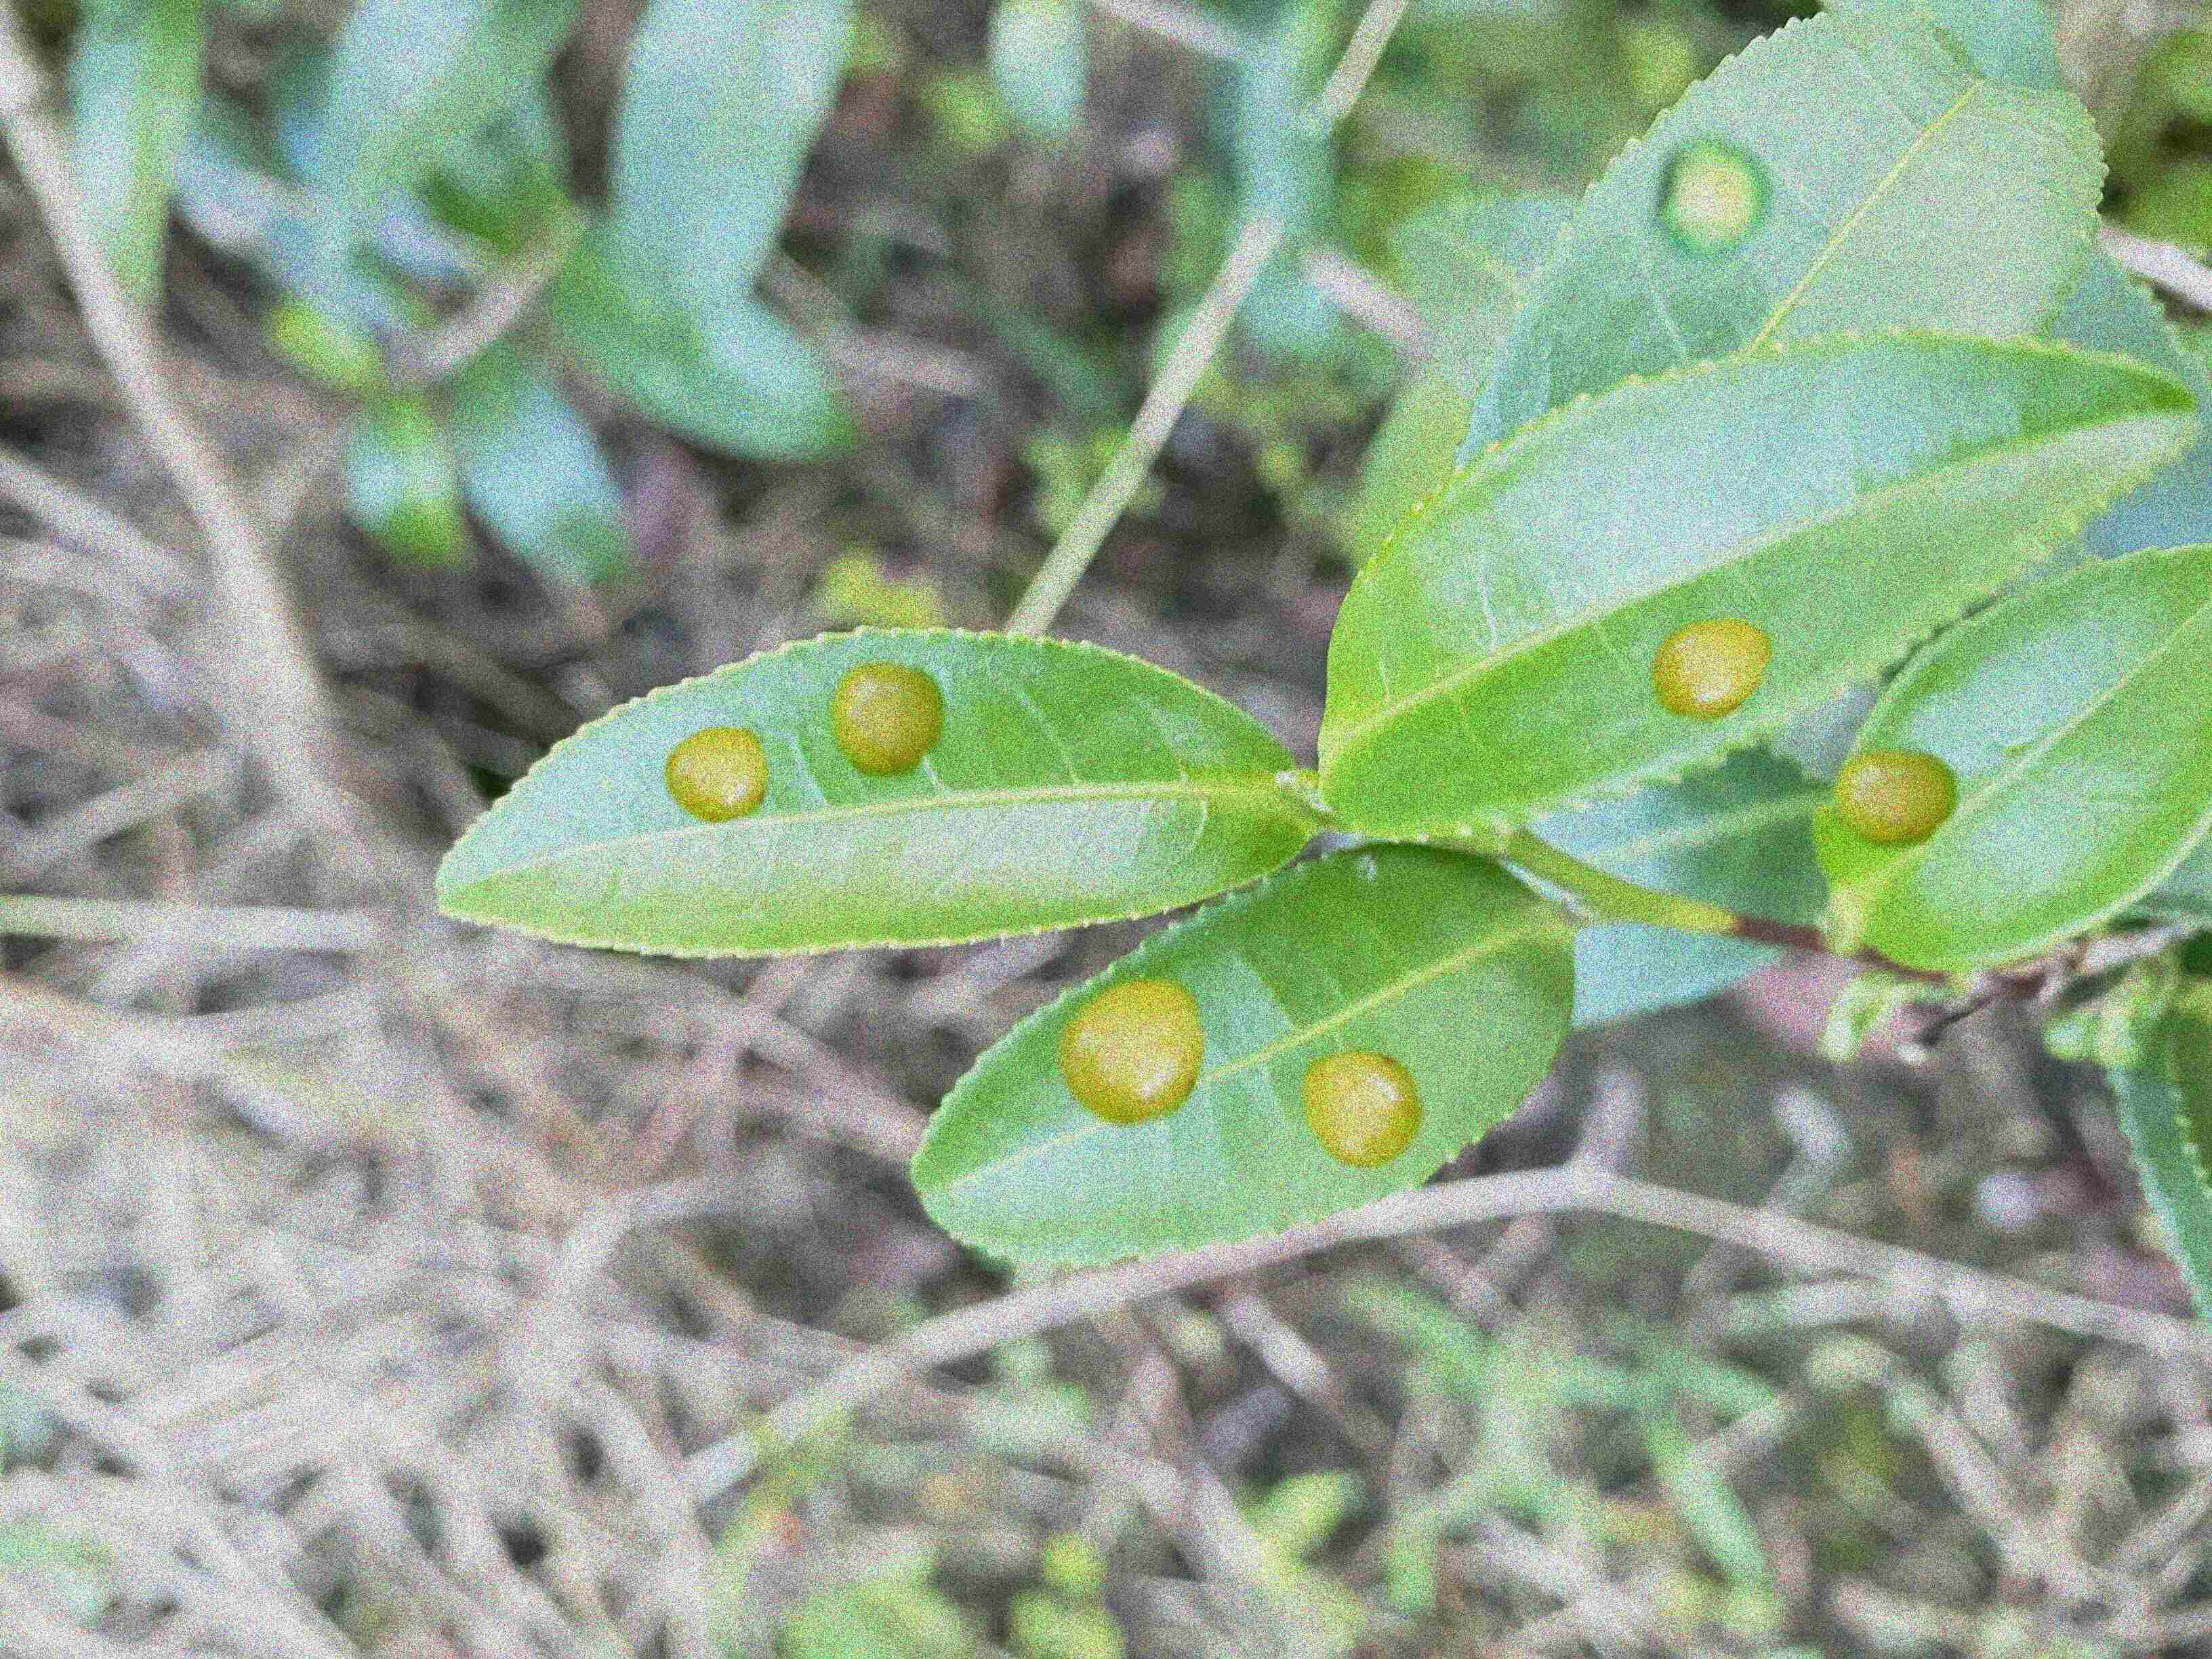chabing_high: (434, 626, 1305, 960), (909, 842, 1576, 1263)
chabing_low: (1308, 331, 2200, 838), (1460, 9, 2107, 451), (1810, 545, 2212, 967)
